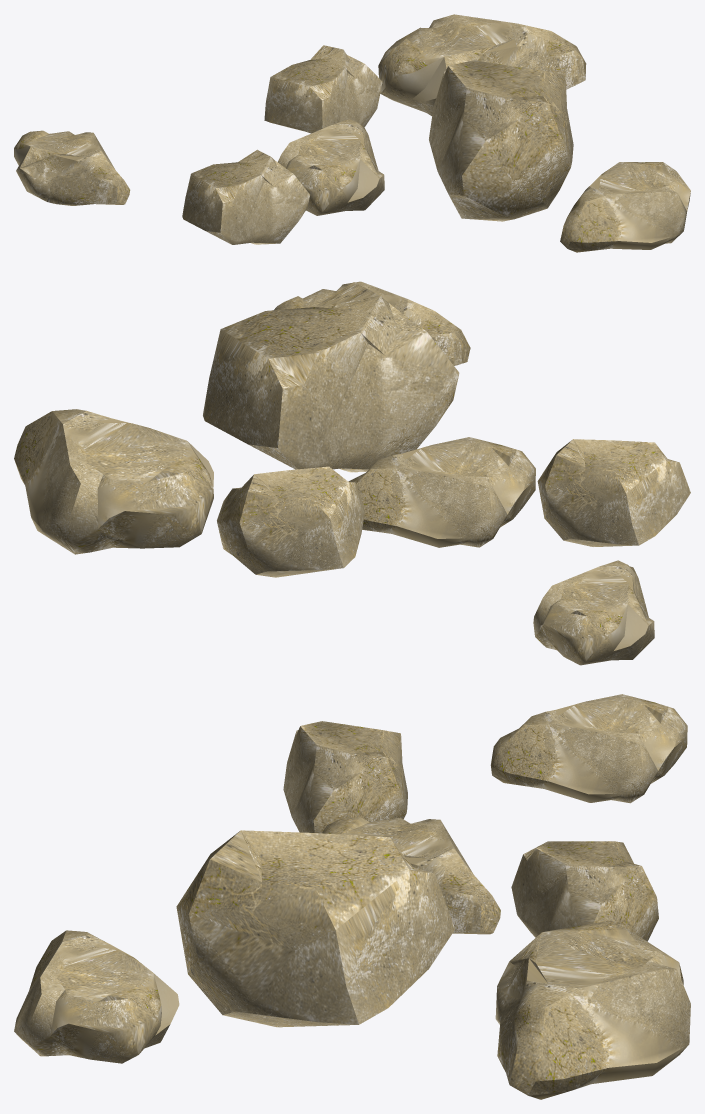
The model's file is cluster1.glb.
The picture shows the model from 3 angles, top to bottom: view 1: azimuth 30°, elevation 25°; view 2: azimuth 150°, elevation 25°; view 3: azimuth 270°, elevation 25°; orthographic projection. The views are drawn at different scales.
Visible parts, largest first — view 1: Aset_nature_rock_S_wd3efb0_00_LOD4_3, Aset_nature_rock_S_wdcbcds_00_LOD3_5, Aset_nature_rock_S_wdcbcds_00_LOD3_2, Aset_nature_rock_S_wd3efb0_00_LOD4_2, Aset_nature_rock_S_wd3efb0_00_LOD4_4, Aset_nature_rock_S_wdcbcds_00_LOD3_3, Aset_nature_rock_S_wdcbcds_00_LOD3_4; view 2: Aset_nature_rock_S_wd3efb0_00_LOD4_3, Aset_nature_rock_S_wdcbcds_00_LOD3_5, Aset_nature_rock_S_wdcbcds_00_LOD3_3, Aset_nature_rock_S_wd3efb0_00_LOD4_4, Aset_nature_rock_S_wd3efb0_00_LOD4_2, Aset_nature_rock_S_wdcbcds_00_LOD3_4, Aset_nature_rock_S_wdcbcds_00_LOD3_2; view 3: Aset_nature_rock_S_wd3efb0_00_LOD4_3, Aset_nature_rock_S_wdcbcds_00_LOD3_5, Aset_nature_rock_S_wdcbcds_00_LOD3_4, Aset_nature_rock_S_wdcbcds_00_LOD3_2, Aset_nature_rock_S_wd3efb0_00_LOD4_2, Aset_nature_rock_S_wd3efb0_00_LOD4_4, Aset_nature_rock_S_wdcbcds_00_LOD3_3.
Boxes of the visible parts, x1,y1,x2,y2 form: Aset_nature_rock_S_wd3efb0_00_LOD4_3: [429, 60, 573, 221]; Aset_nature_rock_S_wdcbcds_00_LOD3_5: [378, 14, 586, 115]; Aset_nature_rock_S_wdcbcds_00_LOD3_2: [560, 162, 690, 252]; Aset_nature_rock_S_wd3efb0_00_LOD4_2: [182, 149, 309, 244]; Aset_nature_rock_S_wd3efb0_00_LOD4_4: [264, 45, 382, 133]; Aset_nature_rock_S_wdcbcds_00_LOD3_3: [278, 119, 384, 215]; Aset_nature_rock_S_wdcbcds_00_LOD3_4: [14, 130, 130, 205]; Aset_nature_rock_S_wd3efb0_00_LOD4_3: [203, 282, 459, 472]; Aset_nature_rock_S_wdcbcds_00_LOD3_5: [14, 409, 213, 554]; Aset_nature_rock_S_wdcbcds_00_LOD3_3: [348, 437, 535, 547]; Aset_nature_rock_S_wd3efb0_00_LOD4_4: [217, 466, 364, 577]; Aset_nature_rock_S_wd3efb0_00_LOD4_2: [537, 439, 690, 546]; Aset_nature_rock_S_wdcbcds_00_LOD3_4: [533, 560, 654, 665]; Aset_nature_rock_S_wdcbcds_00_LOD3_2: [274, 281, 470, 365]; Aset_nature_rock_S_wd3efb0_00_LOD4_3: [176, 830, 455, 1027]; Aset_nature_rock_S_wdcbcds_00_LOD3_5: [495, 920, 690, 1099]; Aset_nature_rock_S_wdcbcds_00_LOD3_4: [490, 694, 687, 803]; Aset_nature_rock_S_wdcbcds_00_LOD3_2: [14, 930, 179, 1063]; Aset_nature_rock_S_wd3efb0_00_LOD4_2: [283, 721, 407, 833]; Aset_nature_rock_S_wd3efb0_00_LOD4_4: [511, 841, 658, 941]; Aset_nature_rock_S_wdcbcds_00_LOD3_3: [322, 817, 500, 934].
Size of what is drawn, in the model's own units: 2.22 by 0.5343 by 1.73.
Materials: 2 (2 with a texture image).
